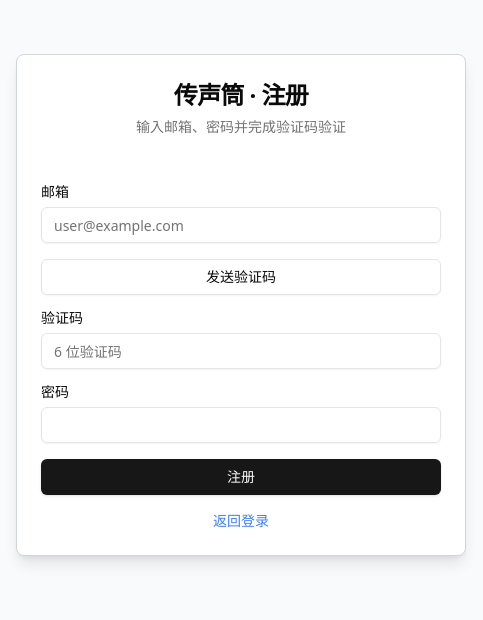
it: Register Page › displays validation errors if password and email are invalid
Type "email@email.com" into the field labelled "邮箱".
click(241, 225); type("email@email.com")  # box [41,207,441,243]
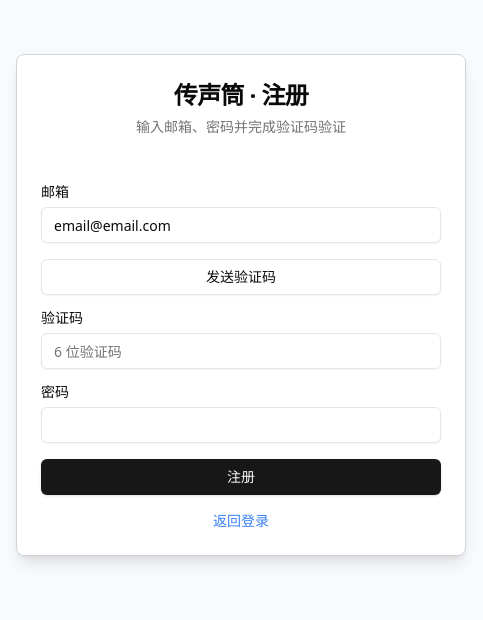
Type "123456" into the field labelled "验证码".
click(241, 351); type("123456")  # box [41,333,441,369]
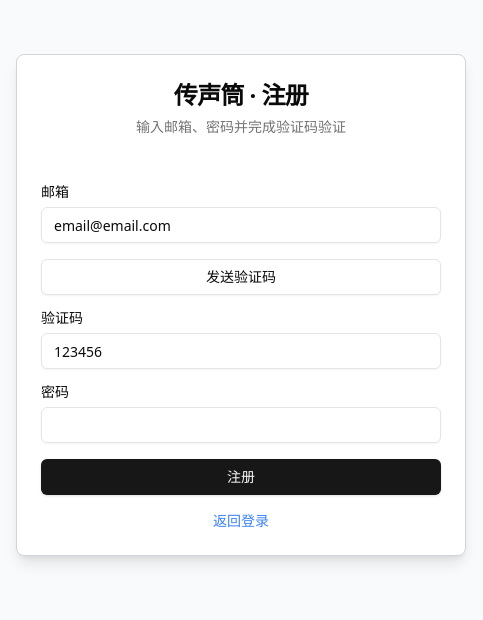
Type "invalid_password" into the password field labelled "密码".
click(241, 425); type("invalid_password")  # box [41,407,441,443]
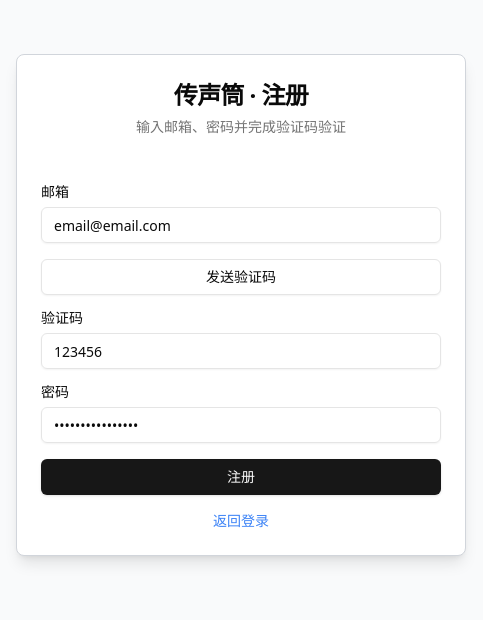
Click the button "注册".
click(241, 477)  # box [41,459,441,495]
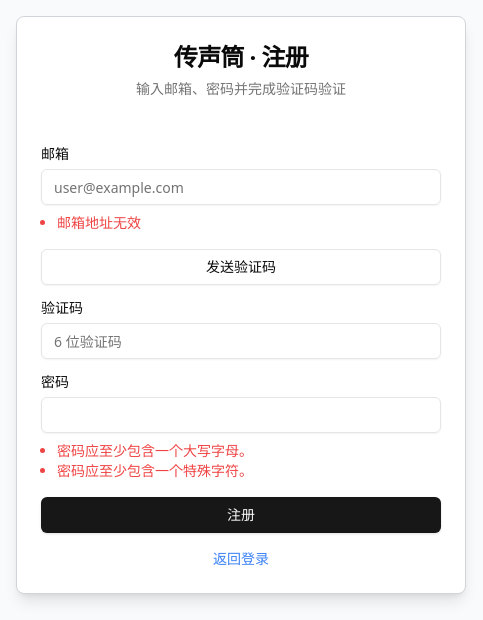
Now the list item "密码应至少包含一个大写字母。" is shown, box [57,441,253,460]
Now the list item "密码应至少包含一个特殊字符。" is shown, box [57,461,253,480]
Now the list item "邮箱地址无效" is shown, box [57,213,141,232]
